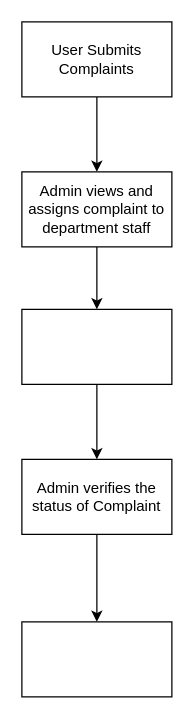
This 194x719 diagram has some shape labels left out. The shapes that lost their labels are listed below. From the top down, each one's centre as x and y in pixels, then its label:
At point 96,346: "Department resolves and update status".
At point 96,659: "Users provide feedback".
